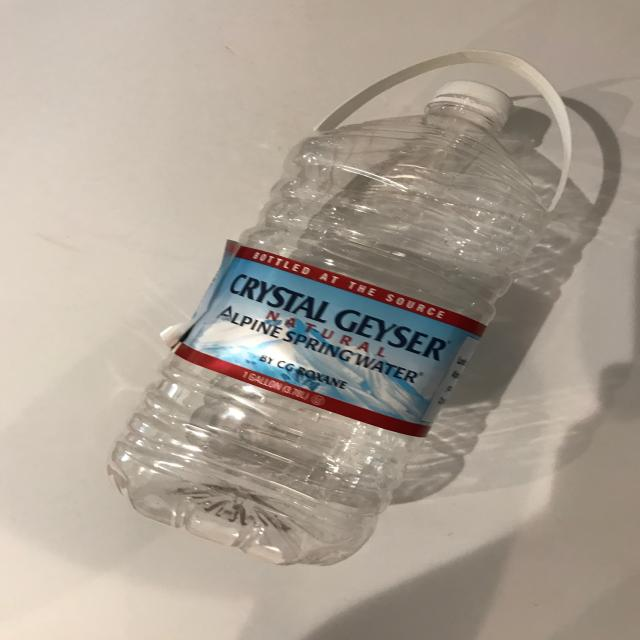plastic: (105, 76, 566, 566)
